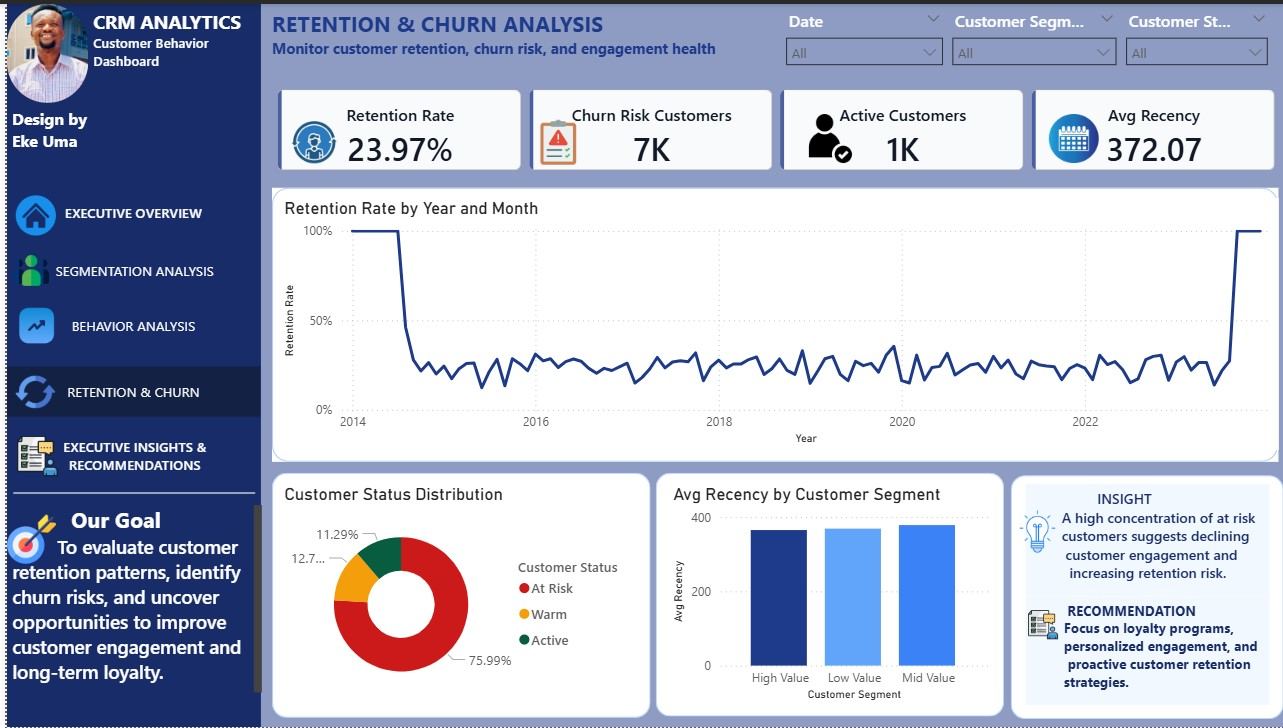

Layout of this report page (visuals, bound fields, positions):
{"tool":"powerbi","page":{"name":"RETENTION & CHURN","canvas":[1280,720],"ordinal":3},"visuals":[{"type":"shape","box":[264,183.2,1001.3,272.7],"z":0},{"type":"cardVisual","fields":{"Data":["Customer Intelligence & Segmentation Analytics - Customer Intelligence & Segment.Retention Rate","Customer Intelligence & Segmentation Analytics - Customer Intelligence & Segment.Churn Risk Customers","Customer Intelligence & Segmentation Analytics - Customer Intelligence & Segment.Active Customers","Customer Intelligence & Segmentation Analytics - Customer Intelligence & Segment.Avg Recency"]},"box":[252.8,68.7,1027,114.1],"z":1000},{"type":"shape","box":[0,0,252.5,719.9],"z":2000},{"type":"textbox","box":[258.3,0,457.4,63.5],"z":3000},{"type":"slicer","fields":{"Values":["Customer Intelligence & Segmentation Analytics - Customer Intelligence & Segment.Last Purchase Date"]},"box":[764.7,0,176,63.5],"z":4000},{"type":"slicer","fields":{"Values":["Customer Intelligence & Segmentation Analytics - Customer Intelligence & Segment.Customer Segment"]},"box":[930.6,0,183.2,63.5],"z":5000},{"type":"slicer","fields":{"Values":["Customer Intelligence & Segmentation Analytics - Customer Intelligence & Segment.Customer Status"]},"box":[1103.7,0,161.6,69.3],"z":6000},{"type":"textbox","box":[0,98.1,127,60.6],"z":7000},{"type":"image","box":[0,0,80.8,98.1],"z":8000},{"type":"textbox","box":[80.8,0,177.5,80.8],"z":9000},{"type":"textbox","box":[0,493.4,258.3,209.2],"z":10000},{"type":"shape","box":[264,466,376.6,243.8],"z":11000},{"type":"image","box":[0,505,49.1,54.8],"z":12000},{"type":"shape","box":[645.6,466.5,346.7,242.7],"z":13000},{"type":"image","box":[271.2,111.1,70.7,51.9],"z":14000},{"type":"image","box":[786.3,109.6,66.4,49.1],"z":15000},{"type":"lineChart","fields":{"Category":["Customer Intelligence & Segmentation Analytics - Customer Intelligence & Segment.Membership Start Date.Variation.Date Hi","Customer Intelligence & Segmentation Analytics - Customer Intelligence & Segment.Membership Start Date.Variation.Date Hi"],"Y":["Customer Intelligence & Segmentation Analytics - Customer Intelligence & Segment.Retention Rate"]},"box":[271.2,193.3,994.1,251],"z":16000},{"type":"donutChart","title":" Customer Status Distribution","fields":{"Category":["Customer Intelligence & Segmentation Analytics - Customer Intelligence & Segment.Customer Status"],"Y":["Customer Intelligence & Segmentation Analytics - Customer Intelligence & Segment.Total Customers"]},"box":[271.2,477.6,356.4,220.7],"z":17000},{"type":"columnChart","fields":{"Category":["Customer Intelligence & Segmentation Analytics - Customer Intelligence & Segment.Customer Segment"],"Y":["Customer Intelligence & Segmentation Analytics - Customer Intelligence & Segment.Avg Recency"]},"box":[657.9,477.6,323.2,220.7],"z":18000},{"type":"image","box":[526.6,112.5,44.7,50.5],"z":19000},{"type":"shape","box":[999.5,469.4,271.5,242.7],"z":21000},{"type":"textbox","box":[1014.3,590.1,242.4,108.2],"z":22000},{"type":"textbox","box":[1014.3,477.6,242.4,111.1],"z":23000},{"type":"image","box":[1003.9,478.1,43.3,93.9],"z":24000},{"type":"image","box":[1015.4,546,31.8,143],"z":25000},{"type":"pageNavigator","box":[0,360.7,252.5,50.5],"z":26000},{"type":"pageNavigator","box":[0,183.2,252.5,50.5],"z":27000},{"type":"pageNavigator","box":[1.4,239.5,252.5,50.5],"z":28000},{"type":"pageNavigator","box":[0,294.3,252.5,50.5],"z":29000},{"type":"pageNavigator","box":[1.4,424.2,252.5,50.5],"z":30000},{"type":"shape","box":[5.8,480.4,240.9,13],"z":31000},{"type":"image","box":[8.7,181.8,40.4,57.7],"z":32000},{"type":"image","box":[8.7,294.3,41.8,50.5],"z":33000},{"type":"image","box":[8.7,365,39,43.3],"z":34000},{"type":"image","box":[8.7,418.4,43.3,63.5],"z":35000},{"type":"image","box":[5,247.5,38.6,34.8],"z":35001},{"type":"image","box":[1031.6,109.6,60.6,49.1],"z":35002}]}

Visuals, with their boxes in screenshot pixels (x1, y1, x2, y2), scaled from the page's 1280x720 canvas onto the 1283x728 screenshot:
shape: 265, 185, 1268, 461
cardVisual - Customer Intelligence & Segmentation Analytics - Customer Intelligence & Segment.Retention Rate x Customer Intelligence & Segmentation Analytics - Customer Intelligence & Segment.Churn Risk Customers: 253, 69, 1282, 185
shape: 0, 0, 253, 727
textbox: 259, 0, 717, 64
slicer - Customer Intelligence & Segmentation Analytics - Customer Intelligence & Segment.Last Purchase Date: 766, 0, 943, 64
slicer - Customer Intelligence & Segmentation Analytics - Customer Intelligence & Segment.Customer Segment: 933, 0, 1116, 64
slicer - Customer Intelligence & Segmentation Analytics - Customer Intelligence & Segment.Customer Status: 1106, 0, 1268, 70
textbox: 0, 99, 127, 160
image: 0, 0, 81, 99
textbox: 81, 0, 259, 82
textbox: 0, 499, 259, 710
shape: 265, 471, 642, 718
image: 0, 511, 49, 566
shape: 647, 472, 995, 717
image: 272, 112, 343, 165
image: 788, 111, 855, 160
lineChart - Customer Intelligence & Segmentation Analytics - Customer Intelligence & Segment.Membership Start Date.Variation.Date Hi x Customer Intelligence & Segmentation Analytics - Customer Intelligence & Segment.Membership Start Date.Variation.Date Hi: 272, 195, 1268, 449
" Customer Status Distribution" donutChart: 272, 483, 629, 706
columnChart - Customer Intelligence & Segmentation Analytics - Customer Intelligence & Segment.Customer Segment x Customer Intelligence & Segmentation Analytics - Customer Intelligence & Segment.Avg Recency: 659, 483, 983, 706
image: 528, 114, 573, 165
shape: 1002, 475, 1274, 720
textbox: 1017, 597, 1260, 706
textbox: 1017, 483, 1260, 595
image: 1006, 483, 1050, 578
image: 1018, 552, 1050, 697
pageNavigator: 0, 365, 253, 416
pageNavigator: 0, 185, 253, 236
pageNavigator: 1, 242, 254, 293
pageNavigator: 0, 298, 253, 349
pageNavigator: 1, 429, 254, 480
shape: 6, 486, 247, 499
image: 9, 184, 49, 242
image: 9, 298, 51, 349
image: 9, 369, 48, 413
image: 9, 423, 52, 487
image: 5, 250, 44, 285
image: 1034, 111, 1095, 160
